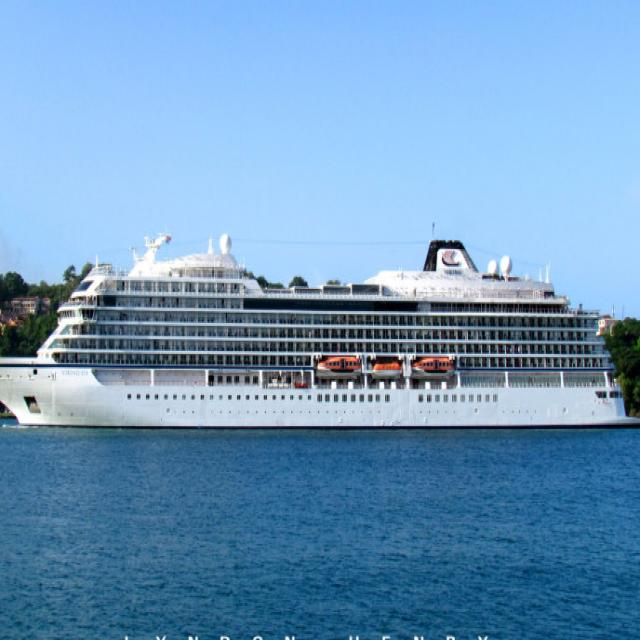cruises: (1, 225, 640, 438)
